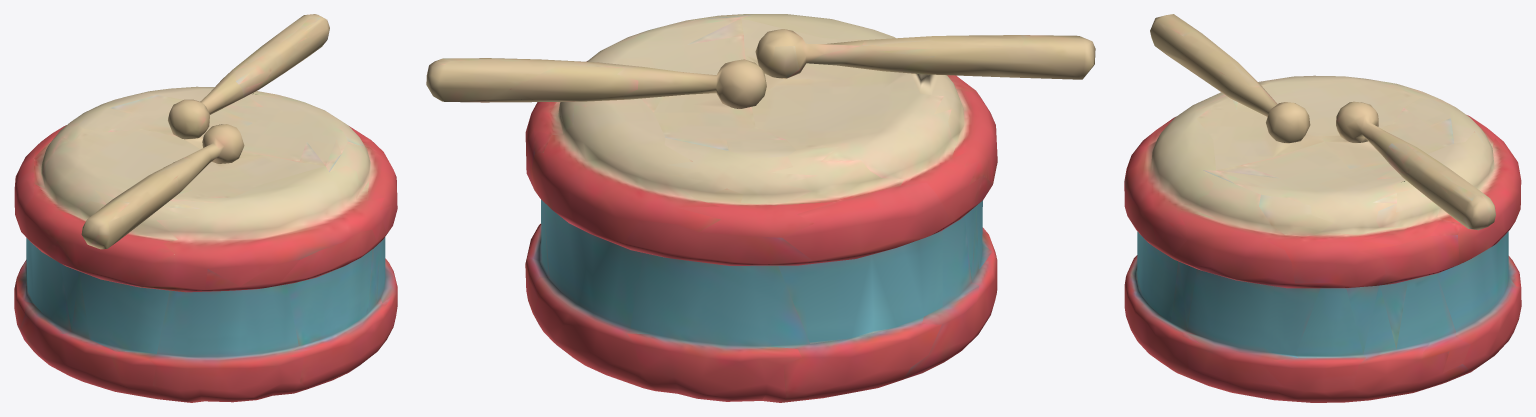
File: toy_drum.glb
3 views of the same model, side by side, from view 1: azimuth 30°, elevation 25°; view 2: azimuth 150°, elevation 25°; view 3: azimuth 270°, elevation 25° (orthographic). The views are drawn at different scales.
Parts seen in each view (by area): view 1: tripo_node_d37d465b-ad85-4c5c-97a9-ec4abc4c1775; view 2: tripo_node_d37d465b-ad85-4c5c-97a9-ec4abc4c1775; view 3: tripo_node_d37d465b-ad85-4c5c-97a9-ec4abc4c1775.
Boxes of the visible parts, <box> form: tripo_node_d37d465b-ad85-4c5c-97a9-ec4abc4c1775: <box>14,14,397,402</box>; tripo_node_d37d465b-ad85-4c5c-97a9-ec4abc4c1775: <box>426,14,1095,402</box>; tripo_node_d37d465b-ad85-4c5c-97a9-ec4abc4c1775: <box>1124,14,1521,402</box>.
Size of the model in its own units: 0.4 by 0.2095 by 0.3379.
Materials: 1 (1 with a texture image).
